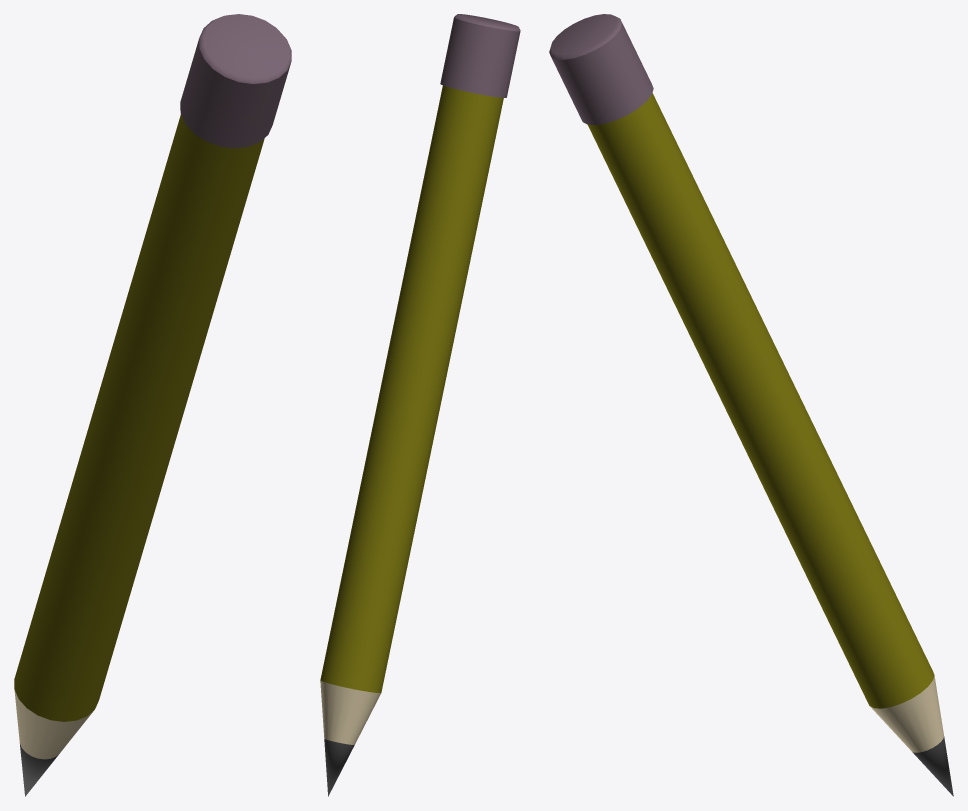
File: Pencil.fbx
3 views of the same model, side by side, from view 1: azimuth 30°, elevation 25°; view 2: azimuth 150°, elevation 25°; view 3: azimuth 270°, elevation 25° (orthographic). The views are drawn at different scales.
Parts seen in each view (by area): view 1: g_pencil_01; view 2: g_pencil_01; view 3: g_pencil_01.
Boxes of the visible parts, left/top/right/bottom form: g_pencil_01: left=14, top=14, right=291, bottom=796; g_pencil_01: left=320, top=14, right=520, bottom=796; g_pencil_01: left=549, top=14, right=953, bottom=796.
Bounding box in the file's own units: 0.3211 × 3.45 × 1.63.
